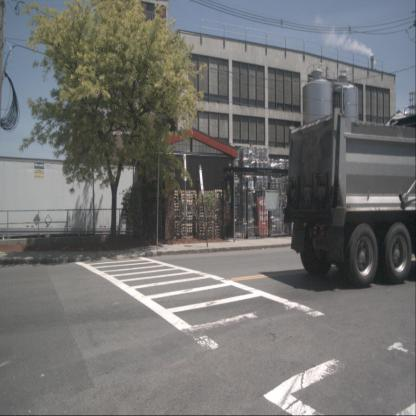vehicle-truck: (283, 107, 415, 289)
